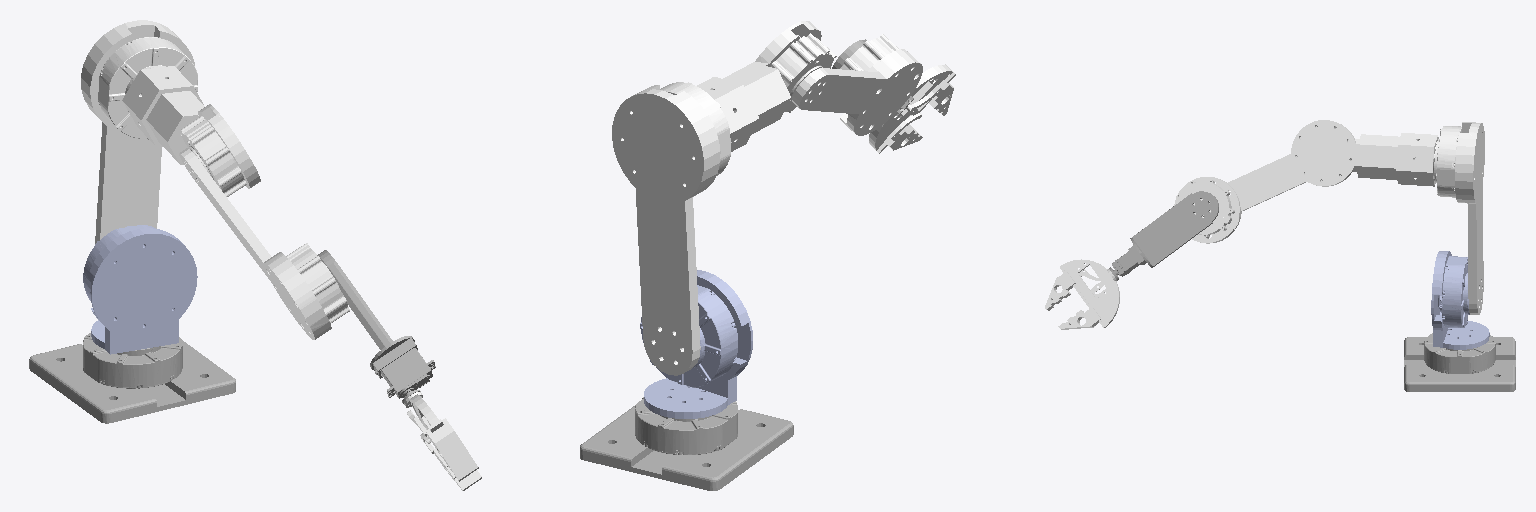
The robot description file, URDF, robot "arm_v2_urdf":
<?xml version="1.0" encoding="utf-8"?>
<!-- This URDF was automatically created by SolidWorks to URDF Exporter! Originally created by [author] ([email redacted]) 
     Commit Version: 1.6.0-4-g7f85cfe  Build Version: 1.6.7995.38578
     For more information, please see http://wiki.ros.org/sw_urdf_exporter -->
<robot
  name="arm_v2_urdf">
  <link
    name="base_link">
    <inertial>
      <origin
        xyz="4.4365E-05 -2.8885E-05 0.015822"
        rpy="0 0 0" />
      <mass
        value="0.42807" />
      <inertia
        ixx="0.00057547"
        ixy="-3.6263E-07"
        ixz="-3.0636E-08"
        iyy="0.00063496"
        iyz="2.5285E-08"
        izz="0.0011899" />
    </inertial>
    <visual>
      <origin
        xyz="0 0 0"
        rpy="0 0 0" />
      <geometry>
        <mesh
          filename="package://arm_v2_urdf/meshes/base_link.STL" />
      </geometry>
      <material
        name="">
        <color
          rgba="0.75294 0.75294 0.75294 1" />
      </material>
    </visual>
    <collision>
      <origin
        xyz="0 0 0"
        rpy="0 0 0" />
      <geometry>
        <mesh
          filename="package://arm_v2_urdf/meshes/base_link.STL" />
      </geometry>
    </collision>
  </link>
  <link
    name="link1">
    <inertial>
      <origin
        xyz="4.0905E-05 -0.0084473 0.023088"
        rpy="0 0 0" />
      <mass
        value="0.3024" />
      <inertia
        ixx="0.00031936"
        ixy="3.6285E-07"
        ixz="-2.5304E-08"
        iyy="0.00021488"
        iyz="3.6187E-05"
        izz="0.00046044" />
    </inertial>
    <visual>
      <origin
        xyz="0 0 0"
        rpy="0 0 0" />
      <geometry>
        <mesh
          filename="package://arm_v2_urdf/meshes/link1.STL" />
      </geometry>
      <material
        name="">
        <color
          rgba="0.79216 0.81961 0.93333 1" />
      </material>
    </visual>
    <collision>
      <origin
        xyz="0 0 0"
        rpy="0 0 0" />
      <geometry>
        <mesh
          filename="package://arm_v2_urdf/meshes/link1.STL" />
      </geometry>
    </collision>
  </link>
  <joint
    name="joint1"
    type="continuous">
    <origin
      xyz="-0.0045366 -0.030621 0.1135"
      rpy="1.5708 0 2.9945" />
    <parent
      link="base_link" />
    <child
      link="link1" />
    <axis
      xyz="0 1 0" />
  </joint>
  <link
    name="link2">
    <inertial>
      <origin
        xyz="-0.00511373562031049 -0.033793084043802 0.0204873768512508"
        rpy="0 0 0" />
      <mass
        value="0.484000256888559" />
      <inertia
        ixx="0.00187358807656737"
        ixy="-8.58783468313879E-05"
        ixz="-4.39695550492937E-05"
        iyy="0.000323047947697138"
        iyz="-5.37153677487572E-05"
        izz="0.00214738608312367" />
    </inertial>
    <visual>
      <origin
        xyz="0 0 0"
        rpy="0 0 0" />
      <geometry>
        <mesh
          filename="package://arm_v2_urdf/meshes/link2.STL" />
      </geometry>
      <material
        name="">
        <color
          rgba="1 1 1 1" />
      </material>
    </visual>
    <collision>
      <origin
        xyz="0 0 0"
        rpy="0 0 0" />
      <geometry>
        <mesh
          filename="package://arm_v2_urdf/meshes/link2.STL" />
      </geometry>
    </collision>
  </link>
  <joint
    name="joint2"
    type="continuous">
    <origin
      xyz="-0.011915 0.19964 0.059"
      rpy="-3.1416 -0.14708 3.1416" />
    <parent
      link="link1" />
    <child
      link="link2" />
    <axis
      xyz="0.14655 0 -0.9892" />
  </joint>
  <link
    name="link3">
    <inertial>
      <origin
        xyz="-0.064421 -0.00011692 0.023017"
        rpy="0 0 0" />
      <mass
        value="0.43829" />
      <inertia
        ixx="0.00021024"
        ixy="7.1459E-06"
        ixz="7.5348E-05"
        iyy="0.00070366"
        iyz="-1.2904E-06"
        izz="0.0007491" />
    </inertial>
    <visual>
      <origin
        xyz="0 0 0"
        rpy="0 0 0" />
      <geometry>
        <mesh
          filename="package://arm_v2_urdf/meshes/link3.STL" />
      </geometry>
      <material
        name="">
        <color
          rgba="1 1 1 1" />
      </material>
    </visual>
    <collision>
      <origin
        xyz="0 0 0"
        rpy="0 0 0" />
      <geometry>
        <mesh
          filename="package://arm_v2_urdf/meshes/link3.STL" />
      </geometry>
    </collision>
  </link>
  <joint
    name="joint3"
    type="continuous">
    <origin
      xyz="-0.008027 0.011577 0.20959"
      rpy="-2.6713 -1.4237 3.1416" />
    <parent
      link="link2" />
    <child
      link="link3" />
    <axis
      xyz="1 0 0" />
  </joint>
  <link
    name="link4">
    <inertial>
      <origin
        xyz="0.024776 0.014467 0.017034"
        rpy="0 0 0" />
      <mass
        value="0.26455" />
      <inertia
        ixx="0.00024995"
        ixy="-0.00027068"
        ixz="1.1963E-05"
        iyy="0.00060801"
        iyz="5.9717E-06"
        izz="0.00084305" />
    </inertial>
    <visual>
      <origin
        xyz="0 0 0"
        rpy="0 0 0" />
      <geometry>
        <mesh
          filename="package://arm_v2_urdf/meshes/link4.STL" />
      </geometry>
      <material
        name="">
        <color
          rgba="1 1 1 1" />
      </material>
    </visual>
    <collision>
      <origin
        xyz="0 0 0"
        rpy="0 0 0" />
      <geometry>
        <mesh
          filename="package://arm_v2_urdf/meshes/link4.STL" />
      </geometry>
    </collision>
  </link>
  <joint
    name="joint4"
    type="continuous">
    <origin
      xyz="0.15844 -0.085433 0.050774"
      rpy="3.1416 0 3.1416" />
    <parent
      link="link3" />
    <child
      link="link4" />
    <axis
      xyz="0 0 1" />
  </joint>
  <link
    name="link5">
    <inertial>
      <origin
        xyz="-0.00013074 -1.9051E-05 -0.041743"
        rpy="0 0 0" />
      <mass
        value="0.069862" />
      <inertia
        ixx="8.9302E-05"
        ixy="4.1408E-06"
        ixz="1.5275E-09"
        iyy="8.581E-05"
        iyz="1.0137E-09"
        izz="1.5267E-05" />
    </inertial>
    <visual>
      <origin
        xyz="0 0 0"
        rpy="0 0 0" />
      <geometry>
        <mesh
          filename="package://arm_v2_urdf/meshes/link5.STL" />
      </geometry>
      <material
        name="">
        <color
          rgba="0.75294 0.75294 0.75294 1" />
      </material>
    </visual>
    <collision>
      <origin
        xyz="0 0 0"
        rpy="0 0 0" />
      <geometry>
        <mesh
          filename="package://arm_v2_urdf/meshes/link5.STL" />
      </geometry>
    </collision>
  </link>
  <joint
    name="joint5"
    type="continuous">
    <origin
      xyz="-0.078368 -0.063176 0.052274"
      rpy="1.5708 -0.98492 -0.87264" />
    <parent
      link="link4" />
    <child
      link="link5" />
    <axis
      xyz="0.83323 0.55293 0" />
  </joint>
  <link
    name="link6">
    <inertial>
      <origin
        xyz="0.00095478 -4.2399E-05 0.048577"
        rpy="0 0 0" />
      <mass
        value="0.062709" />
      <inertia
        ixx="3.8761E-05"
        ixy="-3.2505E-08"
        ixz="1.4034E-06"
        iyy="8.1632E-05"
        iyz="-6.3917E-07"
        izz="4.6983E-05" />
    </inertial>
    <visual>
      <origin
        xyz="0 0 0"
        rpy="0 0 0" />
      <geometry>
        <mesh
          filename="package://arm_v2_urdf/meshes/link6.STL" />
      </geometry>
      <material
        name="">
        <color
          rgba="1 1 1 1" />
      </material>
    </visual>
    <collision>
      <origin
        xyz="0 0 0"
        rpy="0 0 0" />
      <geometry>
        <mesh
          filename="package://arm_v2_urdf/meshes/link6.STL" />
      </geometry>
    </collision>
  </link>
  <joint
    name="joint6"
    type="continuous">
    <origin
      xyz="-0.0083167 -0.0047388 0.05485"
      rpy="0 0 -0.95023" />
    <parent
      link="link5" />
    <child
      link="link6" />
    <axis
      xyz="0 0 1" />
  </joint>
</robot>

--- Render facts (derived) ---
Views: 3 orthographic renders of the robot side by side, from view 1: azimuth 30°, elevation 25°; view 2: azimuth 150°, elevation 25°; view 3: azimuth 270°, elevation 25°.
Model arm_v2_urdf with 7 links and 6 joints (6 continuous), rooted at base_link, posed every joint at zero.
Visible links, largest first — view 1: link2, link1, base_link, link3, link4, link5, link6; view 2: link2, base_link, link1, link3, link4, link6; view 3: link3, base_link, link2, link4, link5, link1, link6.
Link boxes in pixels (box(x1,y1,x2,y2)): link2: box(81, 20, 197, 243); link1: box(83, 225, 197, 354); base_link: box(29, 333, 235, 423); link3: box(122, 66, 260, 196); link4: box(179, 148, 349, 339); link5: box(317, 250, 435, 403); link6: box(404, 392, 481, 490); link2: box(612, 82, 731, 375); base_link: box(580, 397, 793, 490); link1: box(640, 270, 752, 418); link3: box(697, 21, 836, 151); link4: box(792, 34, 922, 135); link6: box(869, 64, 955, 153); link3: box(1291, 120, 1438, 186); base_link: box(1404, 333, 1515, 391); link2: box(1433, 122, 1484, 314); link4: box(1174, 154, 1306, 243); link5: box(1109, 191, 1218, 279); link1: box(1431, 251, 1489, 349); link6: box(1045, 259, 1119, 329).
Bounding box of the posed robot: 0.1572 × 0.6362 × 0.368 m (x, y, z).
Meshes: 7 distinct files referenced, 7 mesh visuals loaded (7 binary STL).